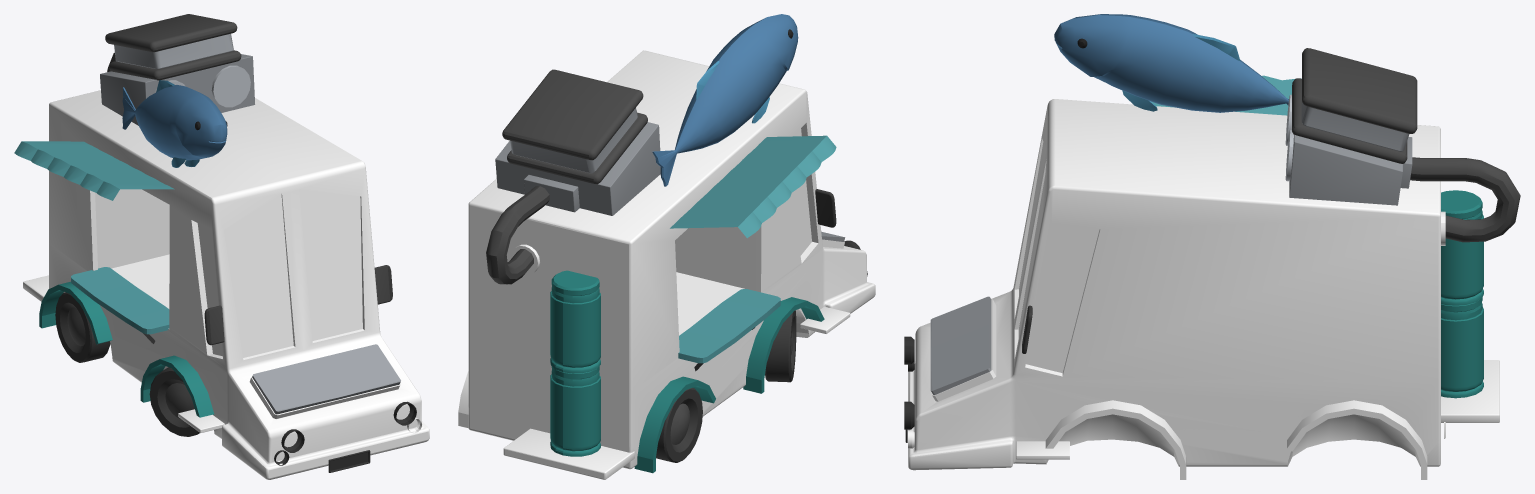
File: Fishtruck.fbx
The picture shows the model from 3 angles, left to right: view 1: azimuth 30°, elevation 25°; view 2: azimuth 150°, elevation 25°; view 3: azimuth 270°, elevation 25°; orthographic projection. The views are drawn at different scales.
Parts seen in each view (by area): view 1: Cylinder.017_Banana_truckbase_0; view 2: Cylinder.017_Banana_truckbase_0; view 3: Cylinder.017_Banana_truckbase_0.
Boxes of the visible parts, left/top/right/bottom form: Cylinder.017_Banana_truckbase_0: left=14, top=14, right=429, bottom=479; Cylinder.017_Banana_truckbase_0: left=458, top=14, right=875, bottom=479; Cylinder.017_Banana_truckbase_0: left=904, top=14, right=1520, bottom=479.
Bounding box in the file's own units: 289 × 358 × 511.
